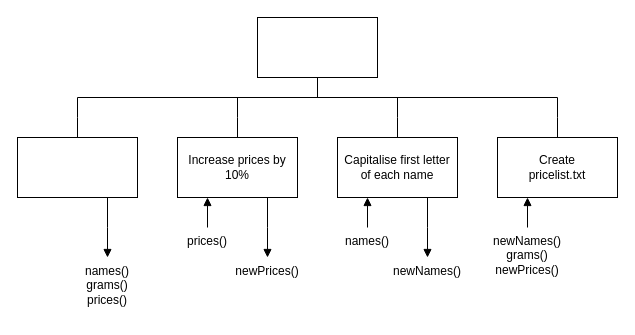
Some shapes in this 635 by 335 pixel diagram are drawn without their labels. Here are the shapes that lost their labels. From the top down, the centre of each, then its label:
At point (317, 47): "Update Tuck Shop List".
At point (77, 167): "Get data".
